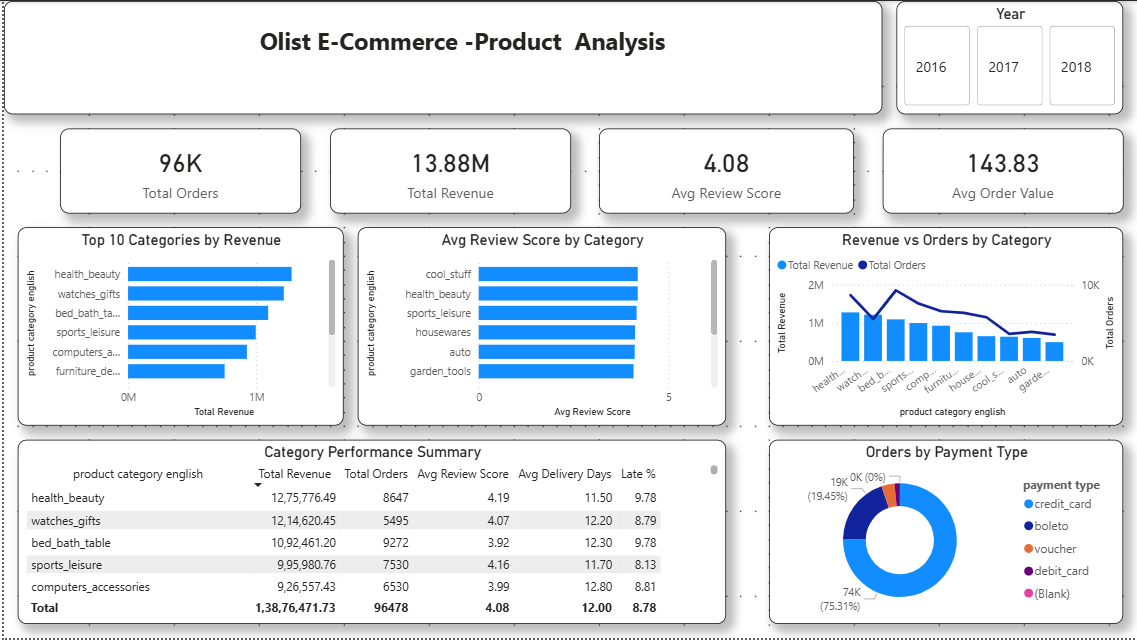

This screenshot's page, from the dashboard's own definition file:
{"tool":"powerbi","page":{"name":"Product Analysis","canvas":[1280,720],"ordinal":4},"visuals":[{"type":"clusteredBarChart","title":"Top 10 Categories by Revenue","fields":{"Category":["DimProduct.product_category_english"],"Y":["KPI.Total Revenue"]},"box":[16,256,608,224],"z":6000},{"type":"barChart","title":"Bottom 5 Categories by Avg Review Score","fields":{"Category":["DimProduct.product_category_english"],"Y":["KPI.Avg Review Score"]},"box":[688,256,544,224],"z":7000},{"type":"lineStackedColumnComboChart","title":"Revenue vs Orders by Category","fields":{"Category":["DimProduct.product_category_english"],"Y":["KPI.Total Revenue"],"Y2":["KPI.Total Orders"]},"box":[816,496,448,208],"z":8000},{"type":"tableEx","title":"Category Performance Summary","fields":{"Values":["DimProduct.product_category_english","KPI.Total Revenue","KPI.Total Orders","KPI.Avg Review Score","KPI.Avg Delivery Days","KPI.Late %"]},"box":[16,496,736,208],"z":10000},{"type":"card","fields":{"Values":["KPI.Total Orders"]},"box":[64,144,272,96],"z":10001},{"type":"card","fields":{"Values":["KPI.Total Revenue"]},"box":[368,144,272,96],"z":10002},{"type":"card","fields":{"Values":["KPI.Avg Review Score"]},"box":[672,144,288,96],"z":10003},{"type":"card","fields":{"Values":["KPI.Avg Order Value"]},"box":[992,144,272,96],"z":10004},{"type":"textbox","box":[0,0,992,128],"z":10005},{"type":"advancedSlicerVisual","fields":{"Values":["DimDate.Year"]},"box":[1008,0,256,128],"z":10006}]}

Visuals, with their boxes in screenshot pixels (x1, y1, x2, y2), scaled from the page's 1280x720 canvas onto the 1137x640 screenshot:
"Top 10 Categories by Revenue" clusteredBarChart: 14, 228, 554, 427
"Bottom 5 Categories by Avg Review Score" barChart: 611, 228, 1094, 427
"Revenue vs Orders by Category" lineStackedColumnComboChart: 725, 441, 1123, 626
"Category Performance Summary" tableEx: 14, 441, 668, 626
card - KPI.Total Orders: 57, 128, 298, 213
card - KPI.Total Revenue: 327, 128, 568, 213
card - KPI.Avg Review Score: 597, 128, 853, 213
card - KPI.Avg Order Value: 881, 128, 1123, 213
textbox: 0, 0, 881, 114
advancedSlicerVisual - DimDate.Year: 895, 0, 1123, 114
